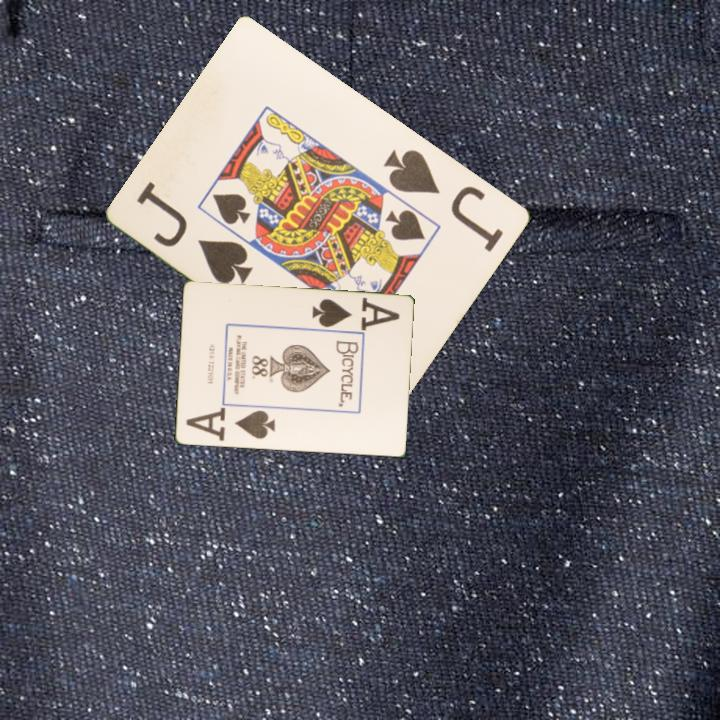As: (308, 294, 402, 333), (191, 407, 278, 442)
Js: (380, 145, 507, 255), (133, 177, 258, 287)
